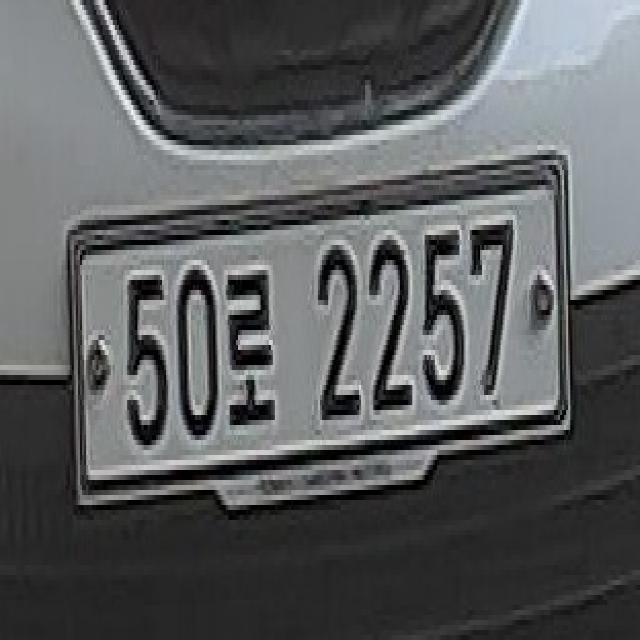0: (172, 255, 220, 440)
2: (366, 228, 414, 417), (316, 238, 362, 426)
5: (124, 266, 168, 454), (423, 228, 466, 408)
7: (470, 217, 516, 400)
license_plate: (68, 150, 570, 521)
lo: (223, 259, 278, 435)
